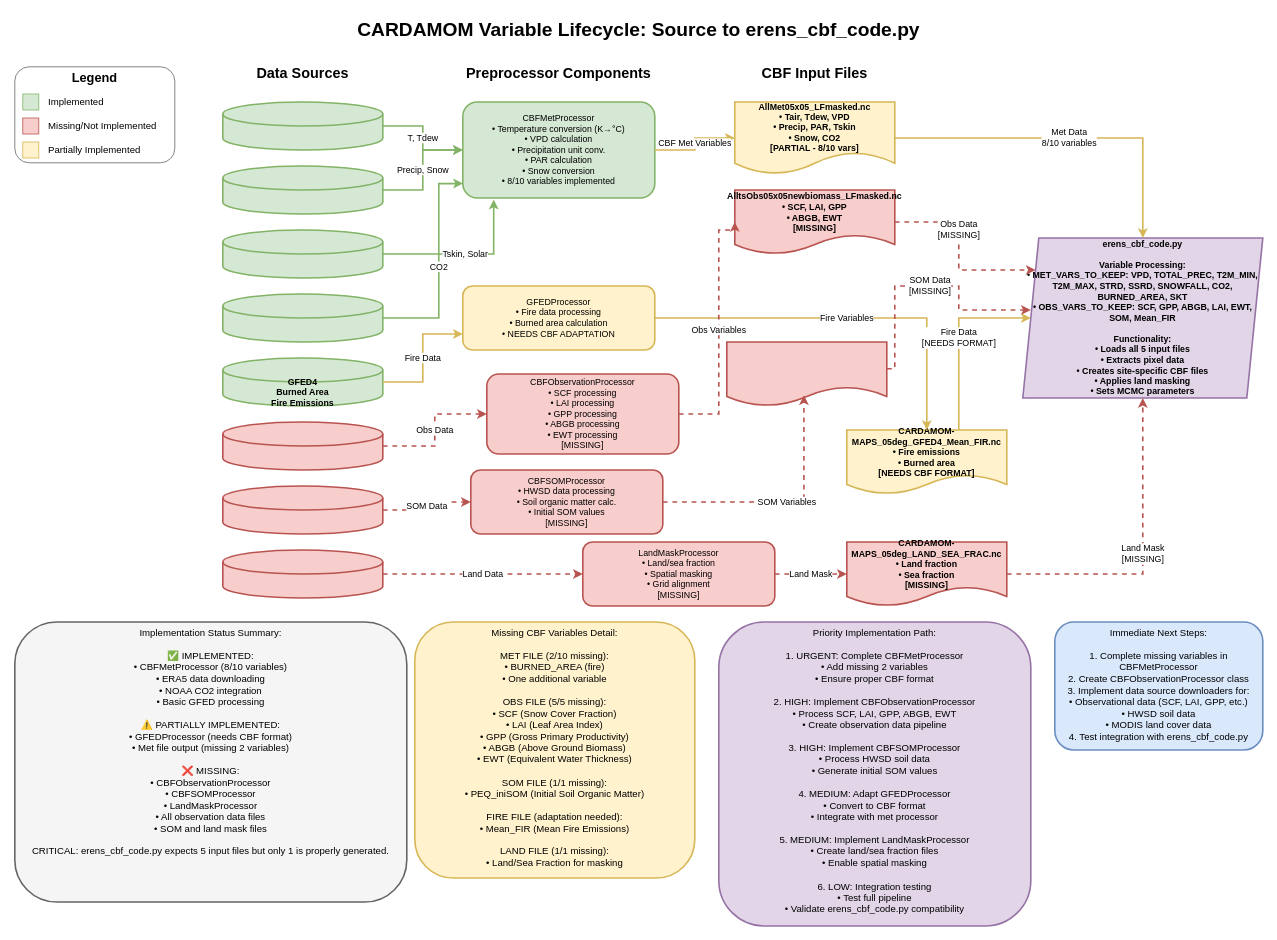
The diagram is 1277 pixels wide and 940 high, and some of its shapes have lost their labels. Each missing label, with the centre of its shape:
"CARDAMOM-MAPS_05deg_HWSD_PEQ_iniSOM.nc • Initial SOM values [MISSING]" belongs at point (806, 373).
"ERA5 2m_temperature 2m_dewpoint_temperature" belongs at point (302, 125).
"ERA5 skin_temperature surface_solar_radiation_downwards" belongs at point (302, 253).
"ERA5 total_precipitation snowfall" belongs at point (302, 189).
"HWSD Soil Organic Matter" belongs at point (302, 509).
"MODIS Land Cover Land/Sea Fraction" belongs at point (302, 573).
"NOAA CO2 Global Monitoring" belongs at point (302, 317).
"Observational Data SCF, LAI, GPP, ABGB, EWT" belongs at point (302, 445).
